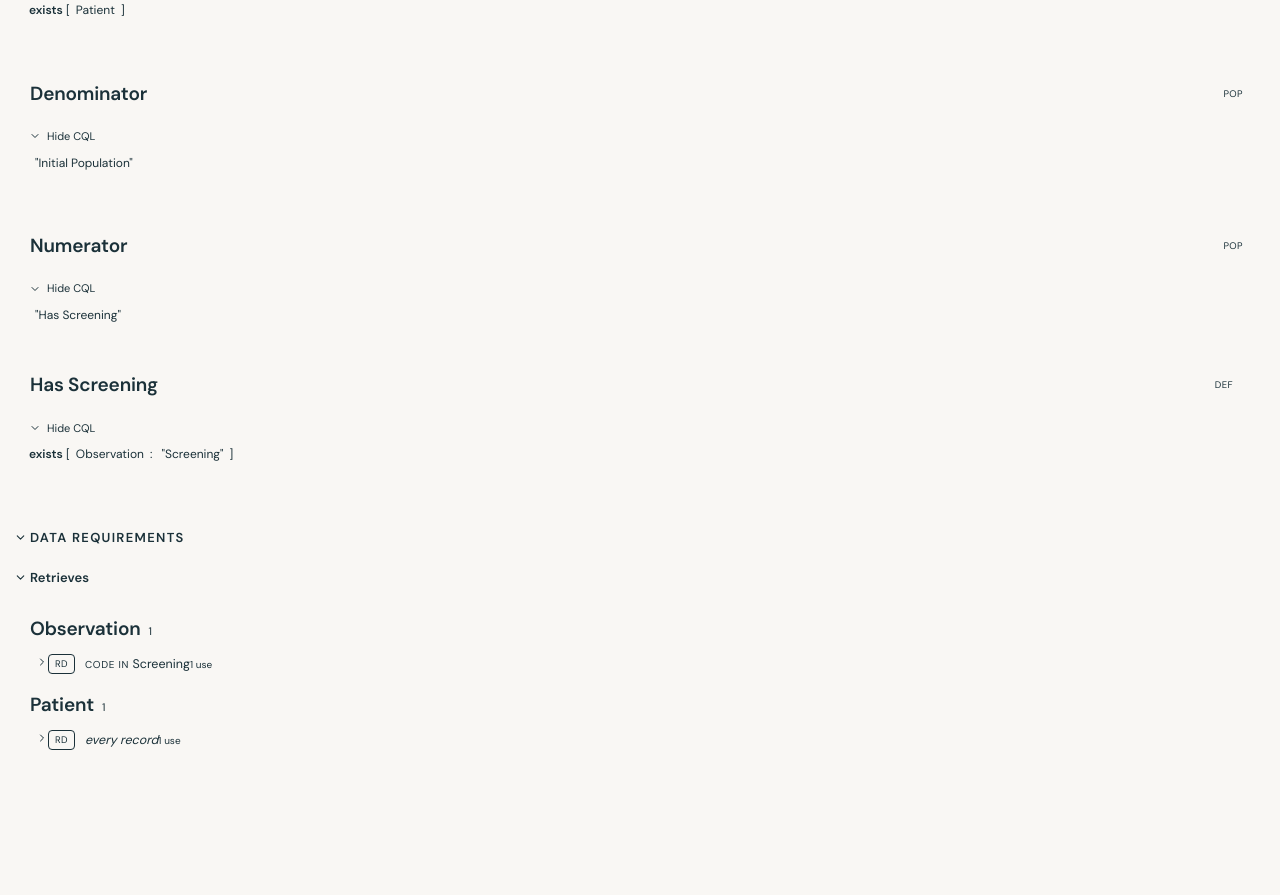
Test: MeasureNarrative — the reference lens is the inspector (SPEC-REF-LENS) › renders the pane's OWN tab strip and body, not a summary of them
This screenshot has width=1280, height=895.
(page scrolled)
Click the button with class "mw-dreq-head" showing "rd code in Screening1 use": (124, 664) [30,652,218,675]
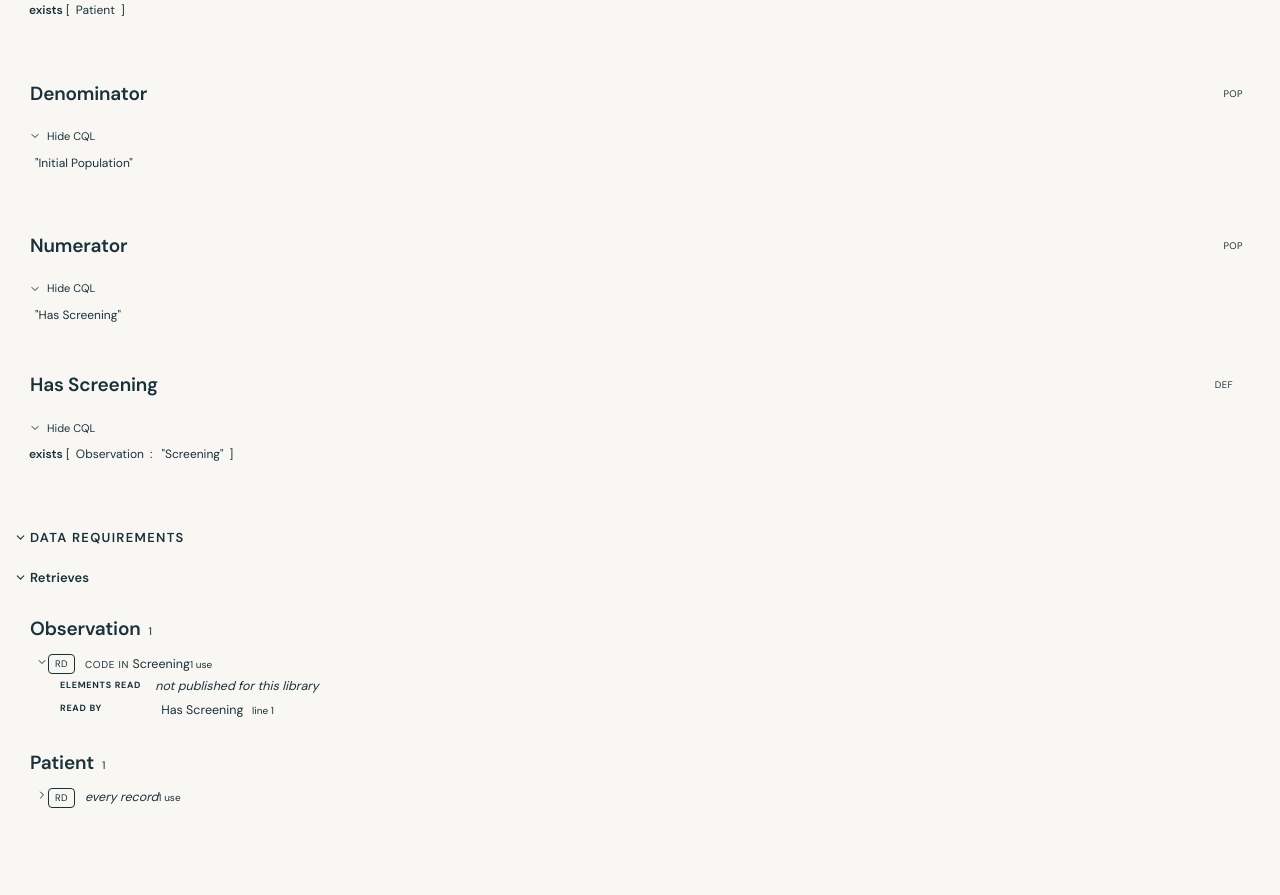
Click the button with class "mw-defref": (202, 710) [155,700,249,721]
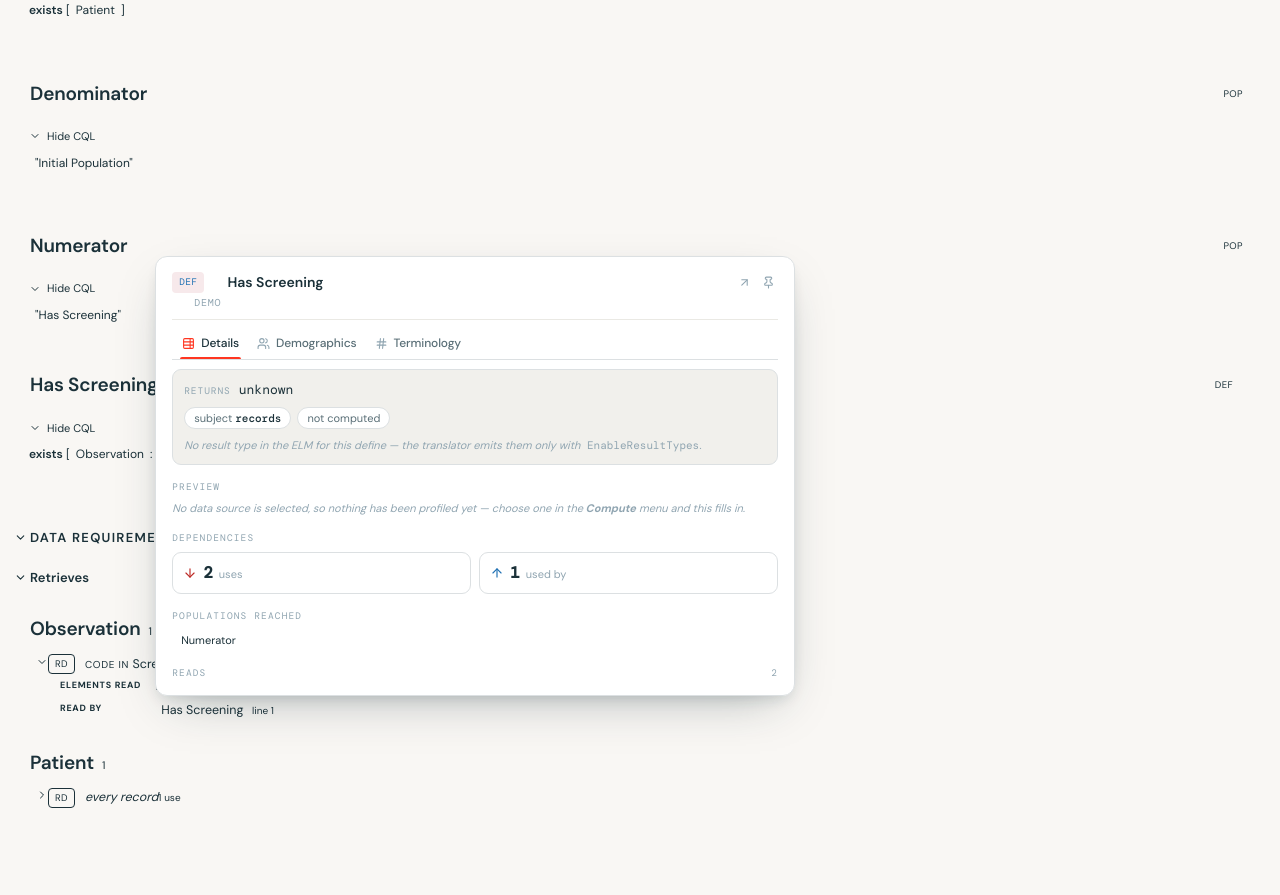
Now the element with class "mw-wb-tabs" is shown, box [172,329,778,360]
Now the panel with class "mw-wb-body" is shown, box [172,369,778,681]
